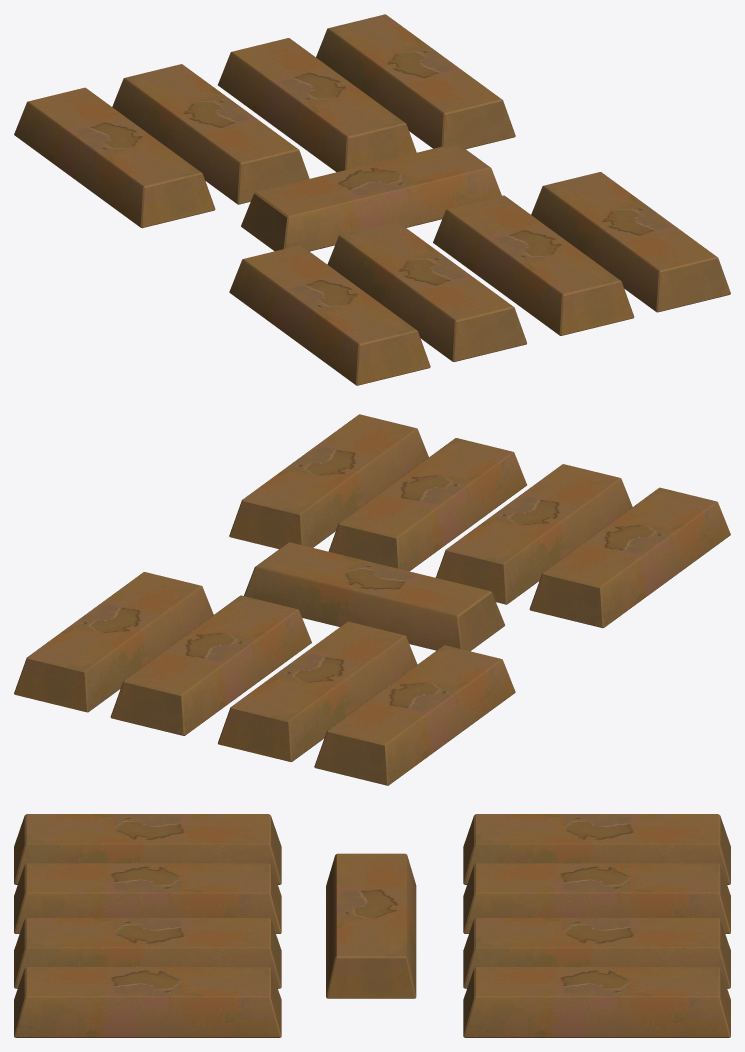
3 renders of one model, top to bottom at view 1: azimuth 30°, elevation 25°; view 2: azimuth 150°, elevation 25°; view 3: azimuth 270°, elevation 25°, orthographic. The views are drawn at different scales.
Parts seen in each view (by area): view 1: body0_model0_lod0_mesh0; view 2: body0_model0_lod0_mesh0; view 3: body0_model0_lod0_mesh0.
Part boxes in pixels (x1,y1,x2,y2): body0_model0_lod0_mesh0: [14, 14, 730, 385]; body0_model0_lod0_mesh0: [14, 414, 730, 785]; body0_model0_lod0_mesh0: [14, 814, 730, 1037].
Bounding box in the file's own units: 67.07 × 6.11 × 106.
1 material, 1 textured.
